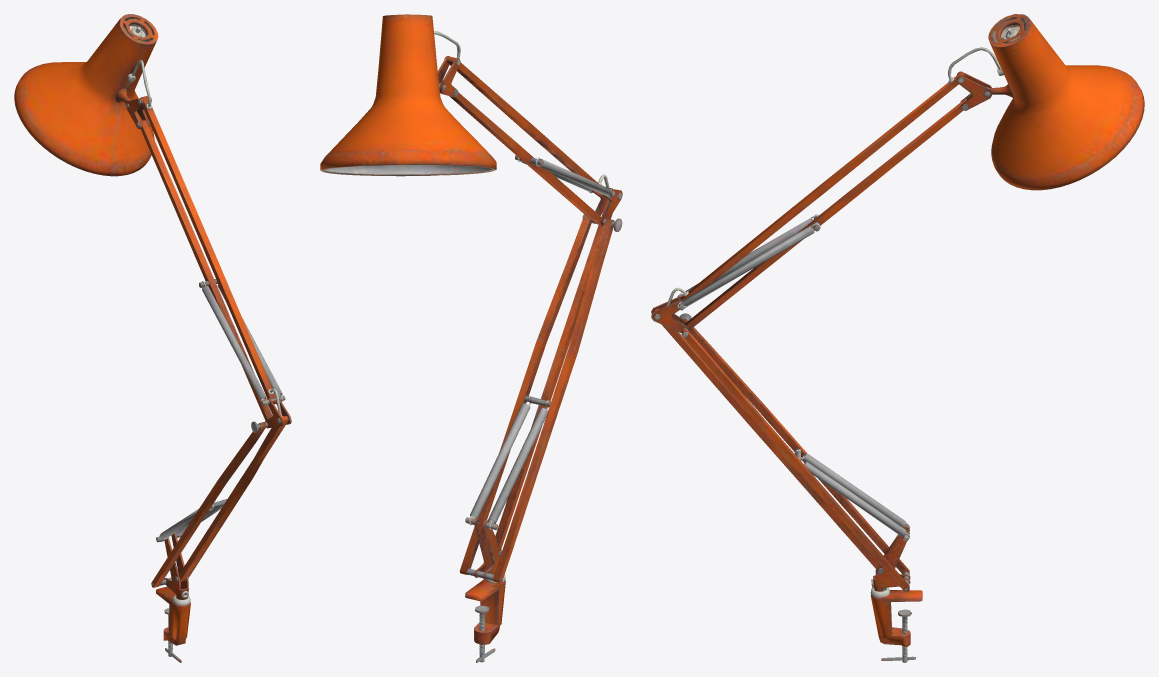
File: th_schreiblampe.glb
3 views of the same model, side by side, from view 1: azimuth 30°, elevation 25°; view 2: azimuth 150°, elevation 25°; view 3: azimuth 270°, elevation 25° (orthographic). The views are drawn at different scales.
Visible parts, largest first — view 1: desk_lamp_arm_01; view 2: desk_lamp_arm_01; view 3: desk_lamp_arm_01.
Part boxes in pixels (x1,y1,x2,y2): desk_lamp_arm_01: (14, 14, 291, 662); desk_lamp_arm_01: (320, 14, 622, 662); desk_lamp_arm_01: (651, 14, 1144, 662).
Size of the model in its own units: 0.2017 by 0.8926 by 0.6139.
2 materials, 2 textured.
